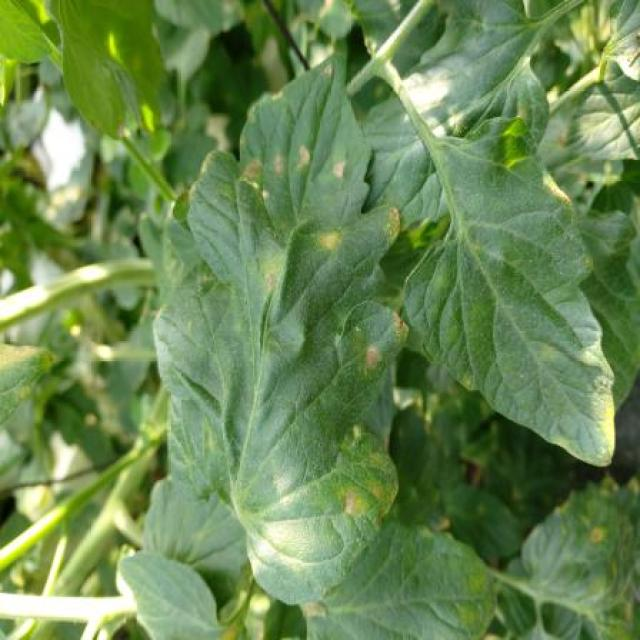Leaf Mold: (153, 55, 410, 606), (404, 115, 617, 466)
